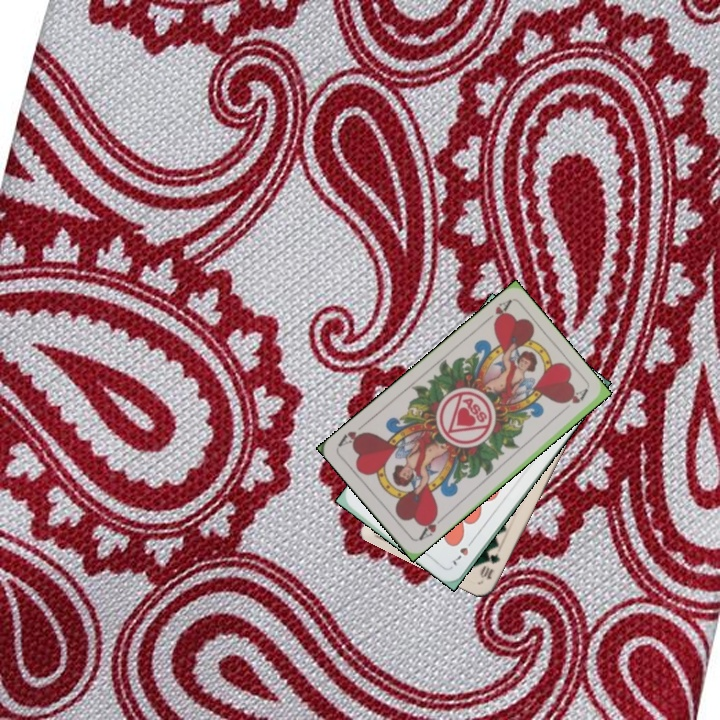G10: (476, 549, 503, 583)
H7: (446, 534, 477, 568)
HA: (415, 509, 448, 543), (478, 296, 513, 328)
